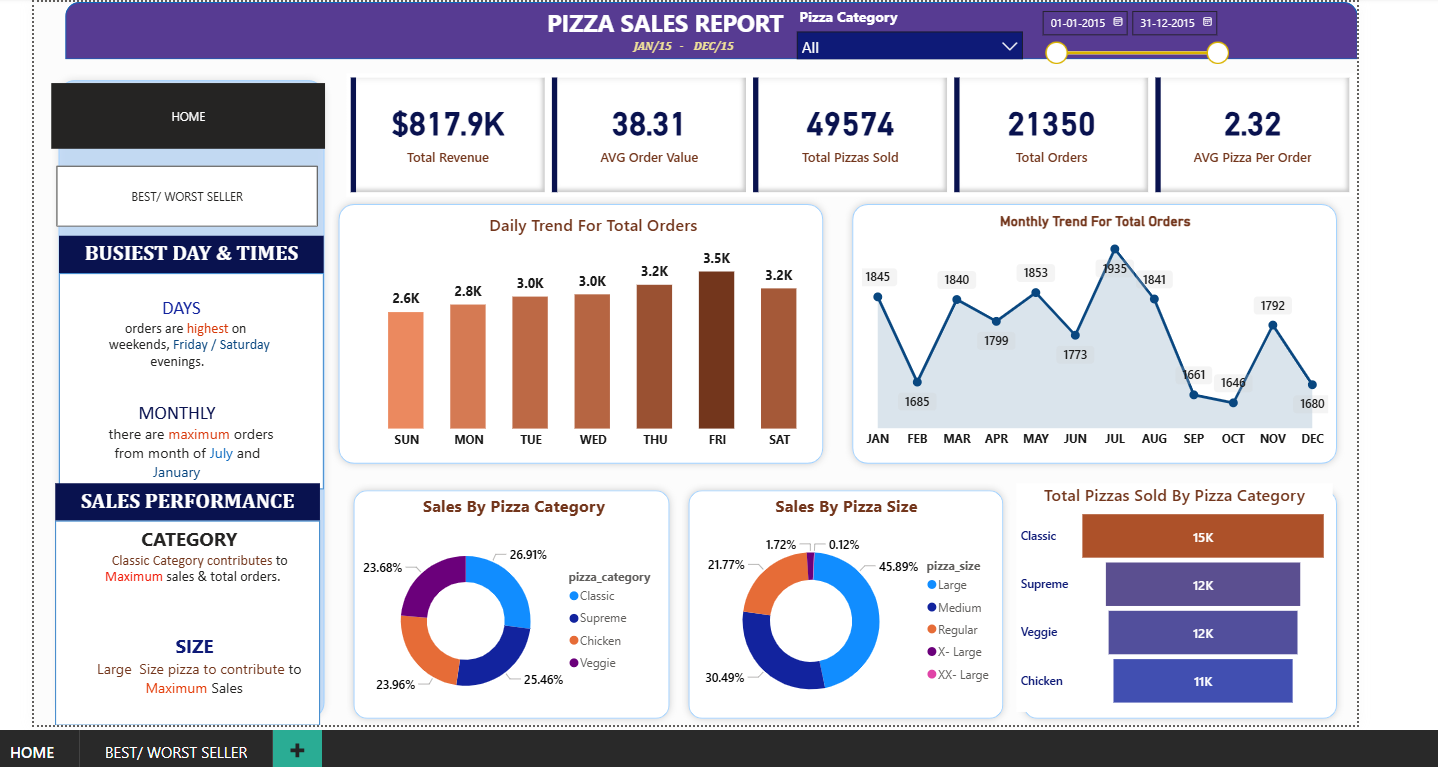

What the dashboard file says about the page in this screenshot:
{"tool":"powerbi","page":{"name":"HOME","canvas":[1500,820],"ordinal":0},"visuals":[{"type":"cardVisual","fields":{"Data":["pizza_sales.Total Revenue","pizza_sales.AVG Order Value","pizza_sales.Total Pizzas Sold","pizza_sales.Total Orders","pizza_sales.AVG Pizza Per Order"]},"box":[354.2,80.8,1146.1,140.3],"z":0},{"type":"shape","box":[35.4,0,1464.9,65.2],"z":1000},{"type":"textbox","box":[518.5,0,400.9,51],"z":2000},{"type":"textbox","box":[657.4,35.4,164.3,29.8],"z":3000},{"type":"shape","box":[337.2,221,565.3,310.3],"z":4000},{"type":"columnChart","title":"Daily Trend For Total Orders","fields":{"Category":["pizza_sales.Order Day"],"Y":["pizza_sales.Total Orders"]},"box":[368.4,239.4,531.3,276.3],"z":5000},{"type":"shape","box":[919.5,221,565.3,310.3],"z":6000},{"type":"areaChart","title":"Monthly Trend For Total Orders","fields":{"Category":["pizza_sales.Order Month"],"Y":["pizza_sales.Total Orders"]},"box":[933.6,239.4,538.4,274.8],"z":7000},{"type":"shape","box":[354.2,545.4,374,274.8],"z":8000},{"type":"shape","box":[733.9,545.4,372.6,274.8],"z":9000},{"type":"shape","box":[1113.6,545.4,371.2,274.8],"z":10000},{"type":"donutChart","title":"Sales By Pizza Category","fields":{"Category":["pizza_sales.pizza_category"],"Y":["pizza_sales.Total Revenue"]},"box":[368.4,558.2,351.3,262.1],"z":11000},{"type":"shape","box":[19.8,80.8,317.3,739.5],"z":12000},{"type":"donutChart","title":"Sales By Pizza Size","fields":{"Y":["pizza_sales.Total Revenue"],"Category":["pizza_sales.pizza_size"]},"box":[745.2,558.2,351.3,262.1],"z":13000},{"type":"funnel","title":"Total Pizzas Sold By Pizza Category","fields":{"Category":["pizza_sales.pizza_category"],"Y":["pizza_sales.Total Pizzas Sold"]},"box":[1113.6,545.4,358.4,259.3],"z":14000},{"type":"textbox","box":[28.3,264.9,300.3,42.5],"z":15000},{"type":"textbox","box":[28.3,307.4,300.3,245.1],"z":16000},{"type":"textbox","box":[24.1,545.4,300.3,42.5],"z":17000},{"type":"textbox","box":[24.1,587.9,300.3,232.3],"z":18000},{"type":"slicer","fields":{"Values":["pizza_sales.pizza_category"]},"box":[854.3,0,276.3,65.2],"z":19000},{"type":"slicer","fields":{"Values":["pizza_sales.order_date"]},"box":[1130.6,0,232.3,80.8],"z":20000},{"type":"pageNavigator","box":[19.3,91.8,310.7,74.1],"z":21000},{"type":"pageNavigator","box":[25.8,185.1,296.2,69.2],"z":22000}]}

Visuals, with their boxes on the page's 1500x820 design canvas (x1, y1, x2, y2). These are canvas units, not pixel positions in the 1438x767 screenshot, which may show the page scaled, cropped or inside an application window:
cardVisual - pizza_sales.Total Revenue x pizza_sales.AVG Order Value: [x1=354, y1=81, x2=1500, y2=221]
shape: [x1=35, y1=0, x2=1500, y2=65]
textbox: [x1=518, y1=0, x2=919, y2=51]
textbox: [x1=657, y1=35, x2=822, y2=65]
shape: [x1=337, y1=221, x2=902, y2=531]
"Daily Trend For Total Orders" columnChart: [x1=368, y1=239, x2=900, y2=516]
shape: [x1=920, y1=221, x2=1485, y2=531]
"Monthly Trend For Total Orders" areaChart: [x1=934, y1=239, x2=1472, y2=514]
shape: [x1=354, y1=545, x2=728, y2=820]
shape: [x1=734, y1=545, x2=1106, y2=820]
shape: [x1=1114, y1=545, x2=1485, y2=820]
"Sales By Pizza Category" donutChart: [x1=368, y1=558, x2=720, y2=820]
shape: [x1=20, y1=81, x2=337, y2=820]
"Sales By Pizza Size" donutChart: [x1=745, y1=558, x2=1096, y2=820]
"Total Pizzas Sold By Pizza Category" funnel: [x1=1114, y1=545, x2=1472, y2=805]
textbox: [x1=28, y1=265, x2=329, y2=307]
textbox: [x1=28, y1=307, x2=329, y2=552]
textbox: [x1=24, y1=545, x2=324, y2=588]
textbox: [x1=24, y1=588, x2=324, y2=820]
slicer - pizza_sales.pizza_category: [x1=854, y1=0, x2=1131, y2=65]
slicer - pizza_sales.order_date: [x1=1131, y1=0, x2=1363, y2=81]
pageNavigator: [x1=19, y1=92, x2=330, y2=166]
pageNavigator: [x1=26, y1=185, x2=322, y2=254]
